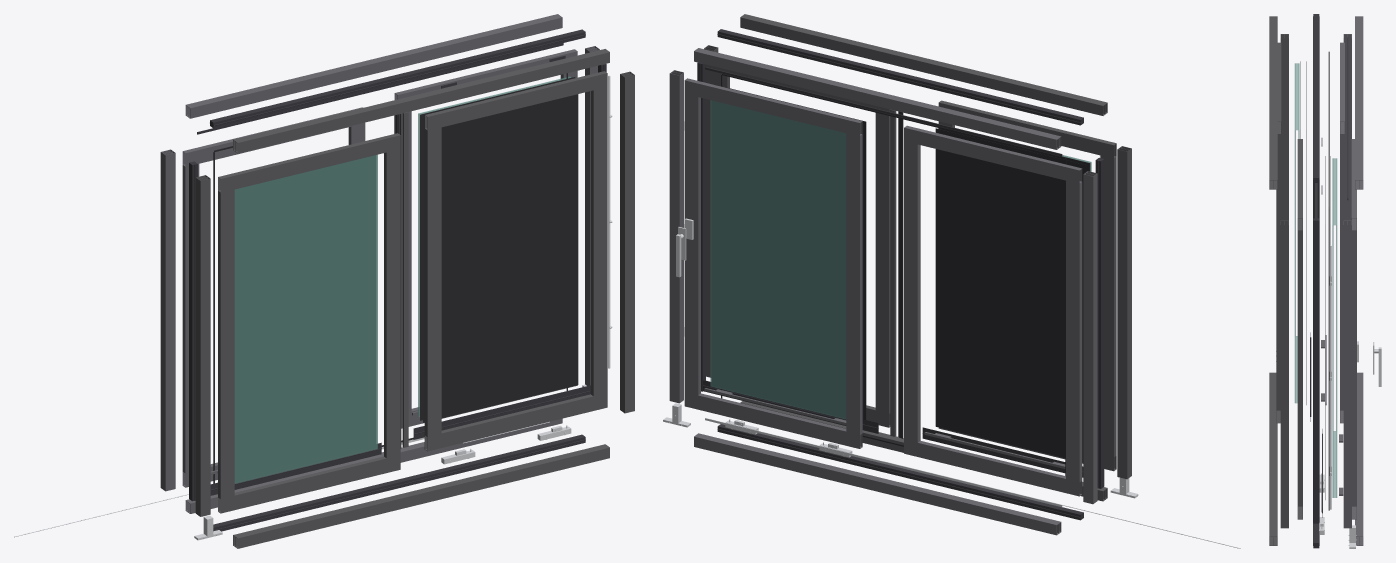
3 views of the same model, side by side, from view 1: azimuth 30°, elevation 25°; view 2: azimuth 150°, elevation 25°; view 3: azimuth 270°, elevation 25° (orthographic). The views are drawn at different scales.
Visible parts, largest first — view 1: glass_fixed_dgu, gasket_glazing_moving, gasket_glazing_fixed, sash_moving_outer, sash_fixed_outer, frame_head_inner, frame_sill_outer, frame_head_outer, frame_jamb_left_inner, frame_jamb_left_outer, frame_jamb_right_outer, sash_fixed_inner (+14 smaller); view 2: gasket_glazing_moving, glass_moving_dgu, gasket_glazing_fixed, sash_fixed_inner, sash_moving_inner, sash_fixed_outer, sash_moving_outer, frame_sill_inner, frame_head_inner, frame_head_outer, frame_jamb_left_inner, frame_jamb_left_outer (+14 smaller); view 3: frame_jamb_right_inner, frame_jamb_right_outer, sash_moving_outer, pa_barrier_jamb_right, sash_fixed_outer, sash_moving_inner, sash_fixed_inner, glass_moving_dgu, frame_head_inner, frame_head_outer, frame_sill_outer, frame_jamb_left_outer (+15 smaller).
Part boxes in pixels (x1=…): glass_fixed_dgu: x1=234, y1=154, x2=377, y2=483; gasket_glazing_moving: x1=420, y1=77, x2=578, y2=422; gasket_glazing_fixed: x1=235, y1=156, x2=375, y2=481; sash_moving_outer: x1=424, y1=71, x2=607, y2=451; sash_fixed_outer: x1=218, y1=133, x2=400, y2=513; frame_head_inner: x1=185, y1=14, x2=562, y2=118; frame_sill_outer: x1=233, y1=444, x2=609, y2=548; frame_head_outer: x1=233, y1=49, x2=609, y2=153; frame_jamb_left_inner: x1=160, y1=149, x2=175, y2=491; frame_jamb_left_outer: x1=195, y1=175, x2=210, y2=516; frame_jamb_right_outer: x1=620, y1=71, x2=634, y2=413; sash_fixed_inner: x1=182, y1=107, x2=365, y2=487; gasket_glazing_moving: x1=712, y1=84, x2=866, y2=421; glass_moving_dgu: x1=710, y1=100, x2=846, y2=419; gasket_glazing_fixed: x1=935, y1=128, x2=1089, y2=462; sash_fixed_inner: x1=904, y1=125, x2=1082, y2=496; sash_moving_inner: x1=684, y1=78, x2=862, y2=448; sash_fixed_outer: x1=938, y1=100, x2=1116, y2=471; sash_moving_outer: x1=713, y1=66, x2=890, y2=427; frame_sill_inner: x1=694, y1=433, x2=1061, y2=535; frame_head_inner: x1=694, y1=48, x2=1061, y2=149; frame_head_outer: x1=740, y1=14, x2=1107, y2=115; frame_jamb_left_inner: x1=1083, y1=171, x2=1097, y2=504; frame_jamb_left_outer: x1=1117, y1=146, x2=1131, y2=479; frame_jamb_right_inner: x1=1343, y1=220, x2=1351, y2=528; frame_jamb_right_outer: x1=1280, y1=220, x2=1288, y2=528; sash_moving_outer: x1=1297, y1=139, x2=1302, y2=519; pa_barrier_jamb_right: x1=1313, y1=218, x2=1319, y2=523; sash_fixed_outer: x1=1276, y1=42, x2=1281, y2=423; sash_moving_inner: x1=1351, y1=139, x2=1356, y2=519; sash_fixed_inner: x1=1340, y1=42, x2=1344, y2=423; glass_moving_dgu: x1=1332, y1=158, x2=1337, y2=497; frame_head_inner: x1=1355, y1=16, x2=1363, y2=189; frame_head_outer: x1=1269, y1=16, x2=1277, y2=189; frame_sill_outer: x1=1269, y1=372, x2=1277, y2=545; frame_jamb_left_outer: x1=1280, y1=34, x2=1288, y2=220.
Size of the model in its own units: 3.79 by 2.53 by 0.6965.
